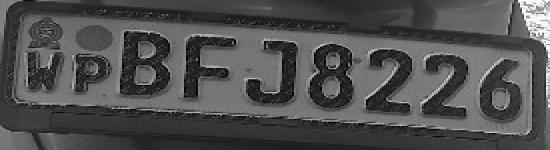2: (359, 42, 418, 118), (416, 48, 473, 122)
6: (472, 52, 526, 127)
8: (298, 38, 358, 114)
B: (114, 26, 176, 101)
F: (176, 31, 239, 103)
J: (242, 36, 301, 107)
P: (69, 51, 112, 95)
W: (23, 49, 66, 94)
